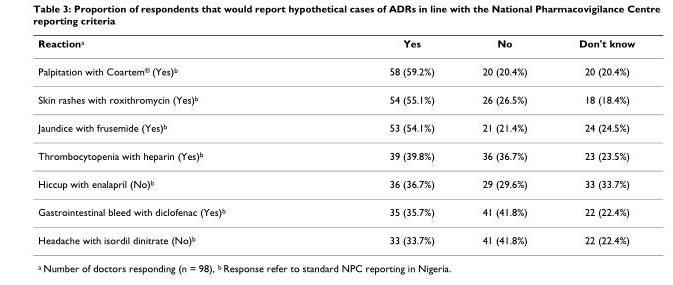table: (37, 36, 634, 245)
table column: (37, 36, 306, 245), (306, 36, 457, 245), (457, 36, 552, 245), (552, 36, 634, 245)
table column header: (37, 36, 634, 57)
table row: (37, 57, 634, 85), (37, 85, 634, 113), (37, 113, 634, 141), (37, 141, 634, 169), (37, 169, 634, 197), (37, 197, 634, 225), (37, 36, 634, 57), (37, 225, 634, 245)
